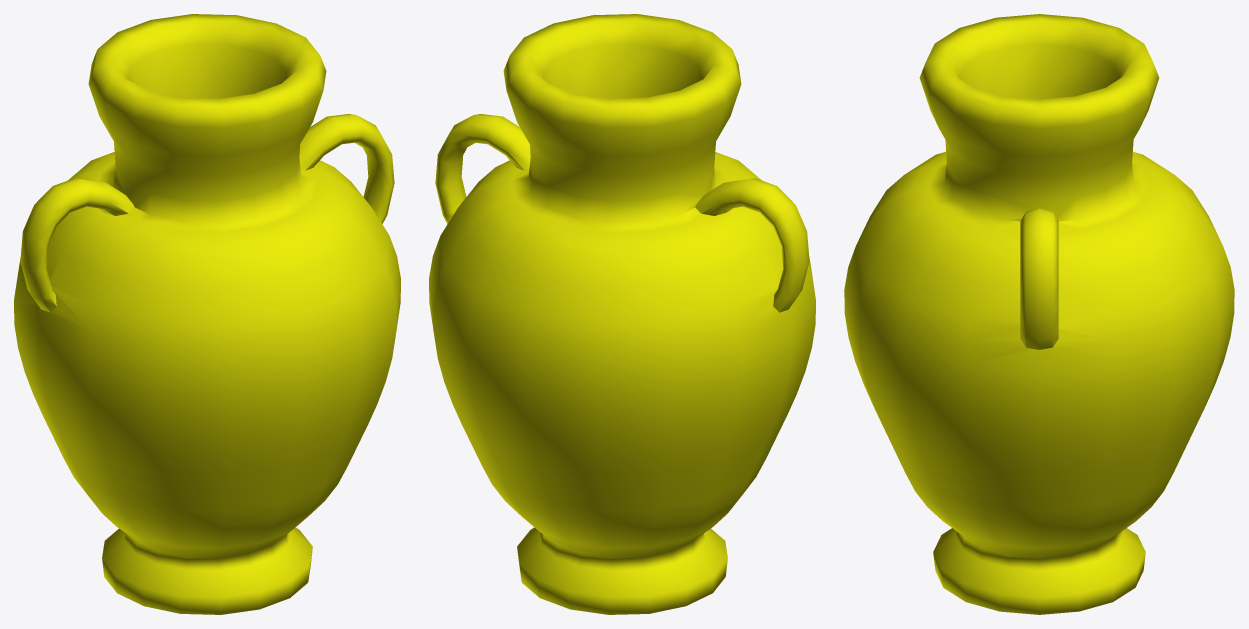
File: GoldUrn.fbx
3 views of the same model, side by side, from view 1: azimuth 30°, elevation 25°; view 2: azimuth 150°, elevation 25°; view 3: azimuth 270°, elevation 25° (orthographic).
Visible parts, largest first — view 1: Urn1; view 2: Urn1; view 3: Urn1.
Part boxes in pixels (x1,y1,x2,y2): Urn1: (14, 14, 400, 614); Urn1: (429, 14, 815, 614); Urn1: (844, 14, 1234, 614).
Bounding box in the file's own units: 540 × 733 × 499.
